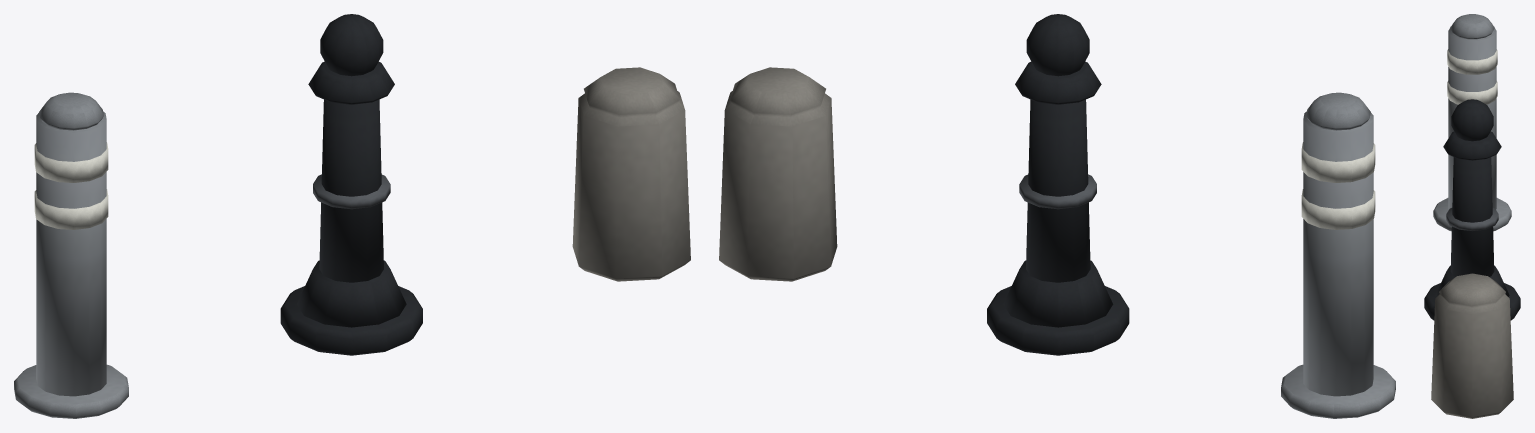
The model's file is bollard.glb.
3 renders of one model, left to right at view 1: azimuth 30°, elevation 25°; view 2: azimuth 150°, elevation 25°; view 3: azimuth 270°, elevation 25°, orthographic. The views are drawn at different scales.
Parts seen in each view (by area): view 1: bollard_v2, bollard_v1, bollard_v3; view 2: bollard_v2, bollard_v1, bollard_v3; view 3: bollard_v3, bollard_v2, bollard_v1.
Part boxes in pixels (bbox=[...]): bollard_v2: bbox=[280, 14, 422, 355]; bollard_v1: bbox=[14, 92, 128, 418]; bollard_v3: bbox=[572, 67, 690, 281]; bollard_v2: bbox=[987, 14, 1129, 355]; bollard_v1: bbox=[1281, 92, 1395, 418]; bollard_v3: bbox=[719, 67, 837, 281]; bollard_v3: bbox=[1431, 273, 1513, 418]; bollard_v2: bbox=[1424, 99, 1520, 320]; bollard_v1: bbox=[1433, 14, 1511, 231].
Bounding box in the file's own units: 2.36 × 1.06 × 0.44.
Materials: 2 (2 with a texture image).
